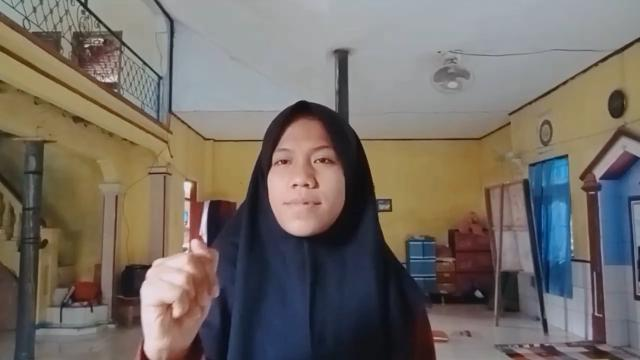A: (138, 238, 222, 348)
